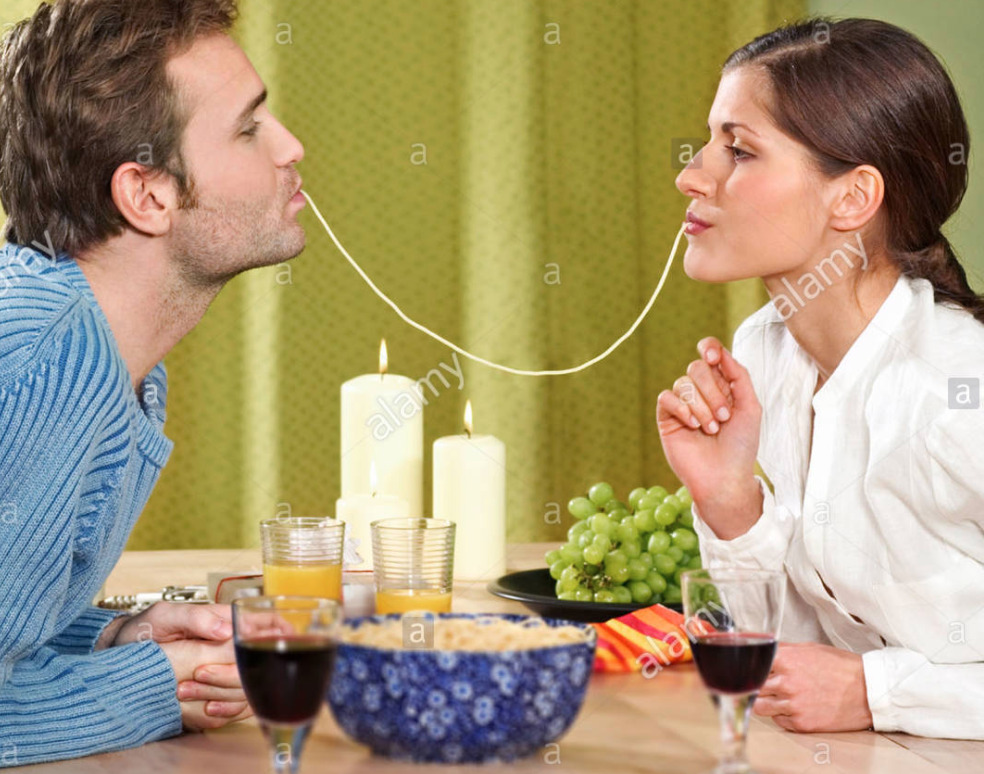Bad: (1, 2, 984, 519)
